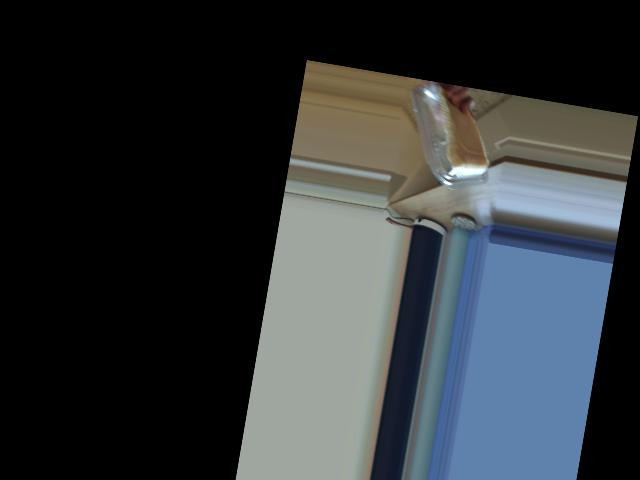cheese: (413, 117, 484, 182)
